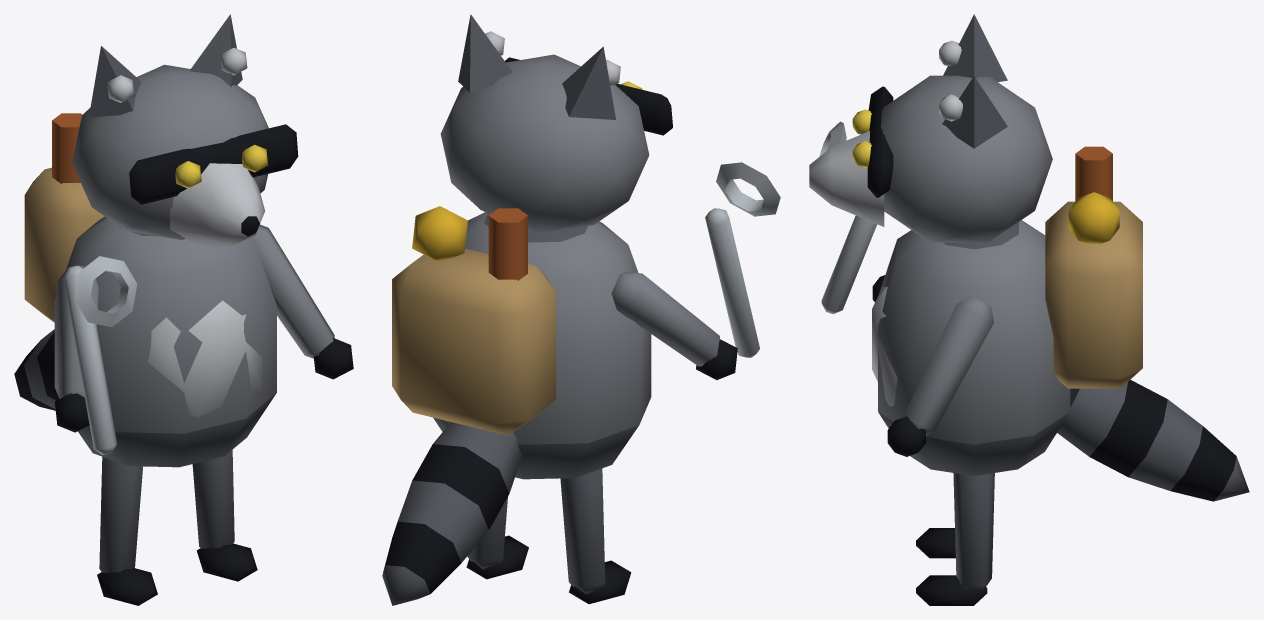
Rendered from e_wueste_waschbaer.glb.
The picture shows the model from 3 angles, left to right: view 1: azimuth 30°, elevation 25°; view 2: azimuth 150°, elevation 25°; view 3: azimuth 270°, elevation 25°; orthographic projection. The views are drawn at different scales.
Parts seen in each view (by area): view 1: body; view 2: body; view 3: body.
Part boxes in pixels (x1=…): body: x1=14, y1=14, x2=353, y2=605; body: x1=382, y1=14, x2=780, y2=605; body: x1=809, y1=14, x2=1249, y2=605.
Size of the model in its own units: 0.9487 by 1.58 by 1.17.
